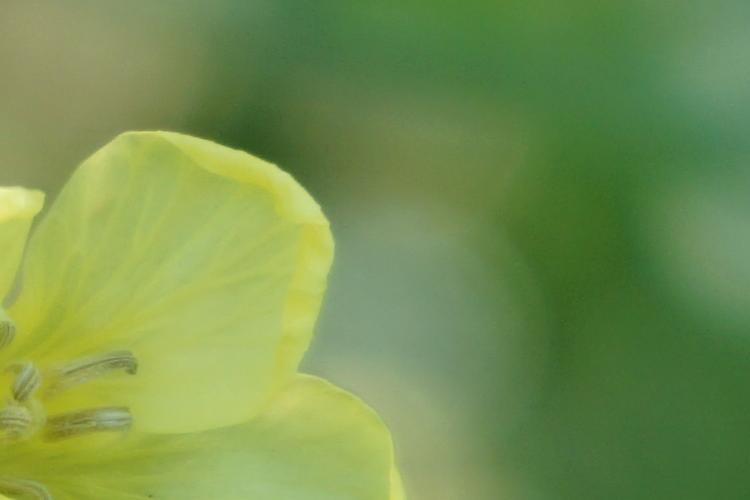yellow: (1, 124, 408, 500)
